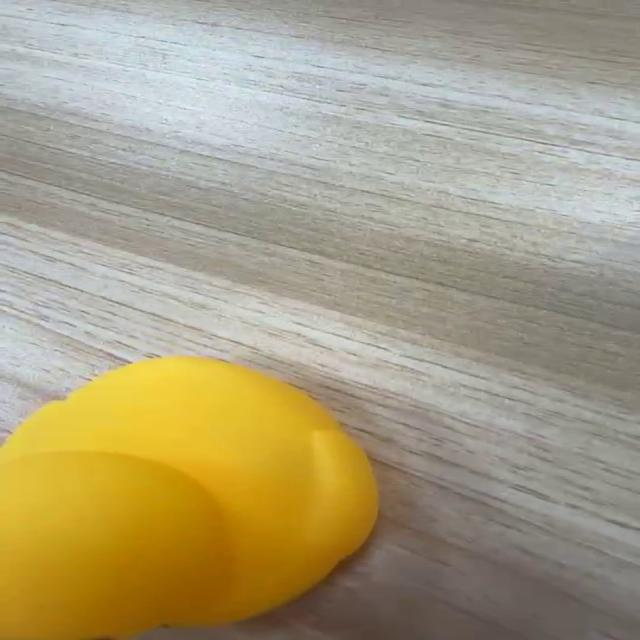yellow_duck: (0, 354, 380, 638)
